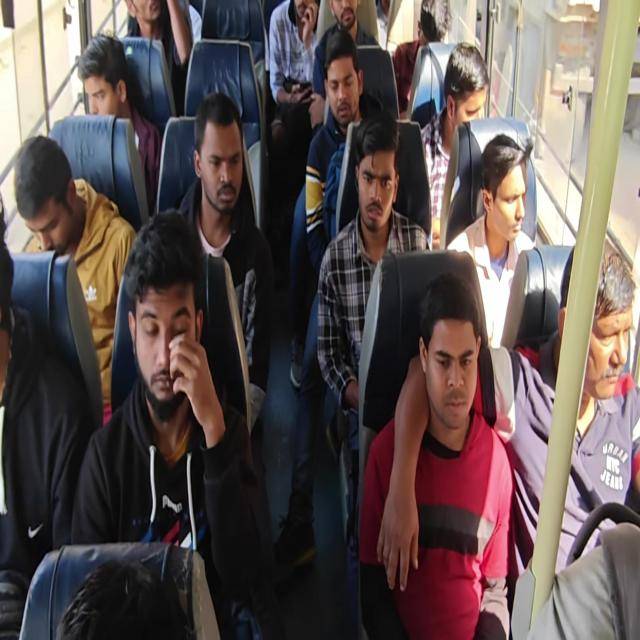person: (2, 1, 638, 638), (392, 243, 639, 613), (69, 208, 273, 638), (358, 271, 514, 638), (316, 109, 431, 555), (506, 244, 639, 582), (0, 208, 92, 637), (14, 134, 137, 424), (174, 91, 273, 435), (446, 133, 536, 349), (304, 27, 384, 268), (77, 32, 161, 214), (419, 40, 490, 248), (55, 558, 190, 638), (311, 0, 382, 130), (122, 0, 194, 115), (268, 0, 321, 144), (392, 0, 452, 118)
